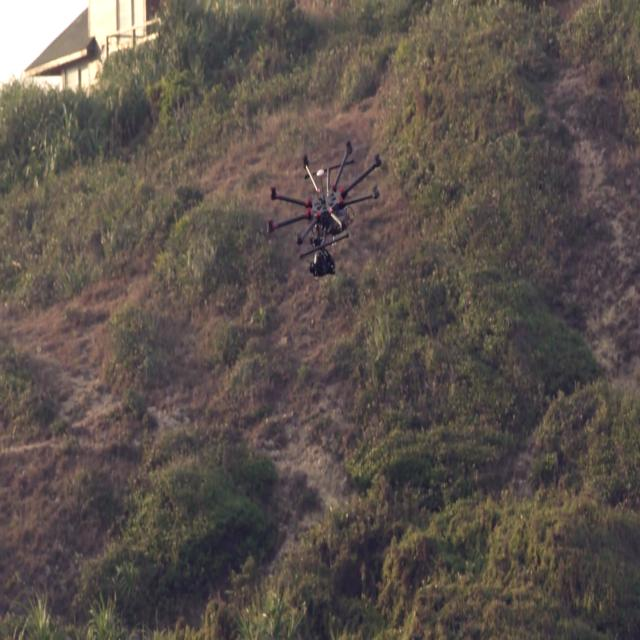drone: (263, 141, 383, 276)
